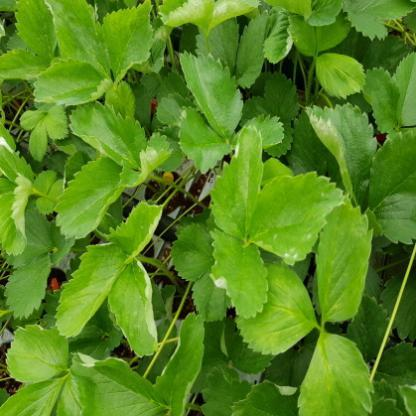Strawberry_Powdery_Mildew_Leaf: (248, 172, 346, 266), (305, 102, 378, 210), (66, 353, 173, 415), (209, 124, 264, 242), (207, 228, 268, 320), (106, 257, 159, 358), (105, 199, 164, 263), (117, 131, 173, 188), (260, 7, 294, 65)
